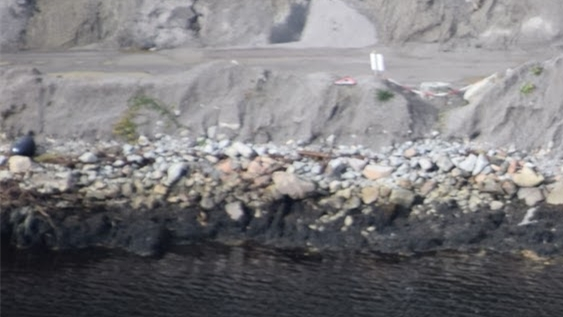straight_bar: (295, 144, 337, 163)
white_in_green: (1, 113, 53, 169)
